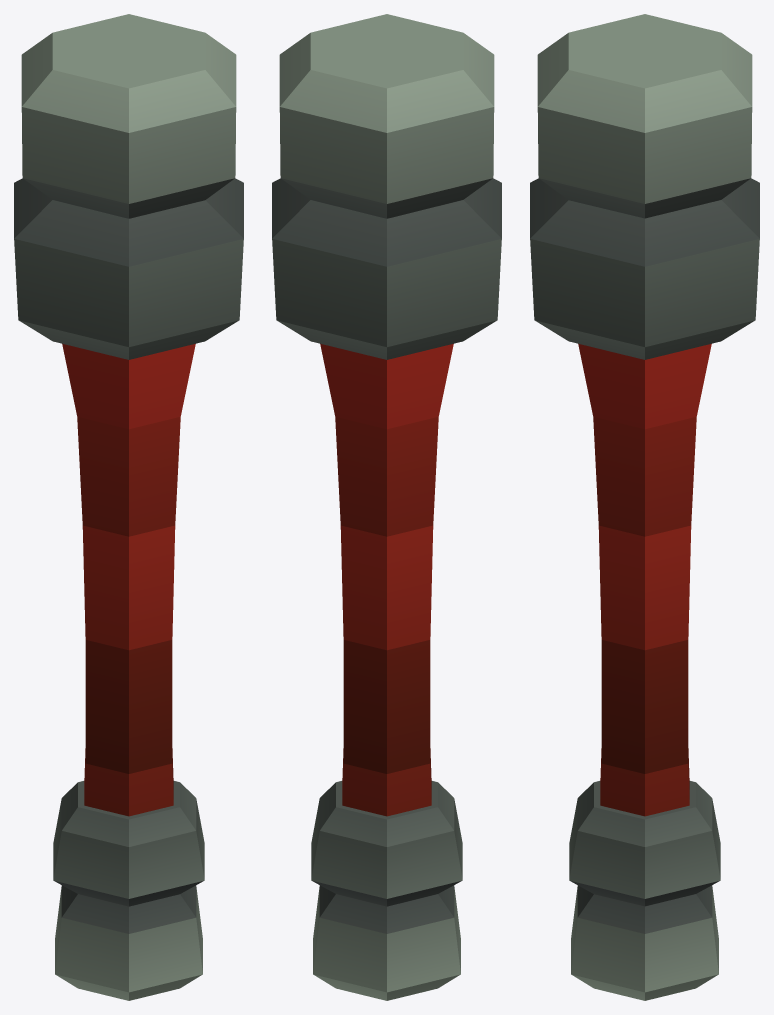
The model's file is short-handle_003.fbx.
3 renders of one model, left to right at view 1: azimuth 30°, elevation 25°; view 2: azimuth 150°, elevation 25°; view 3: azimuth 270°, elevation 25°, orthographic.
Parts seen in each view (by area): view 1: short-handle.003; view 2: short-handle.003; view 3: short-handle.003.
Part boxes in pixels (x1,y1,x2,y2): short-handle.003: (14,14,243,1000); short-handle.003: (272,14,501,1000); short-handle.003: (530,14,759,1000).
Size of the model in its own units: 10.84 by 41.7 by 9.39.
